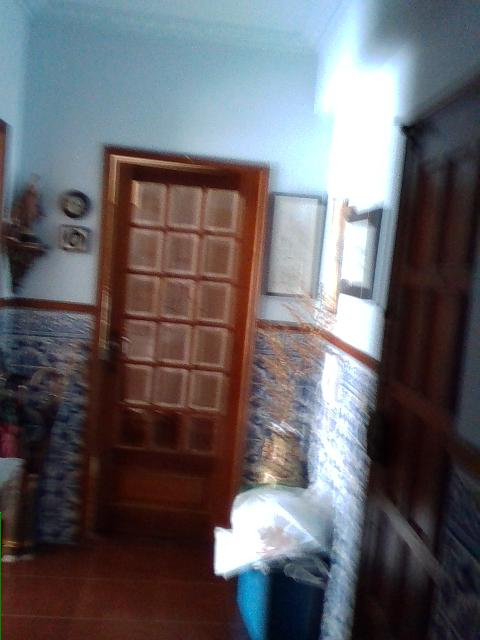closed_door: (79, 144, 269, 537)
